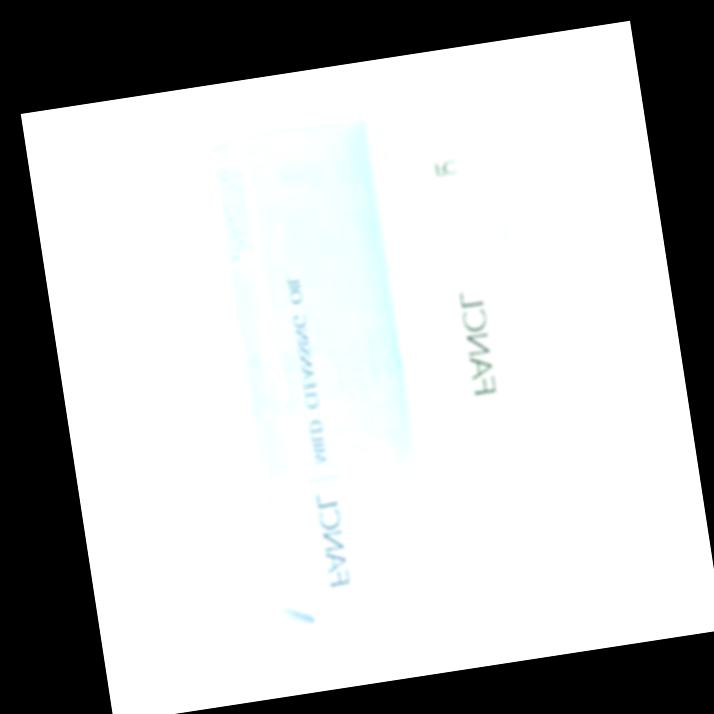cosmetic: (373, 105, 579, 581)
